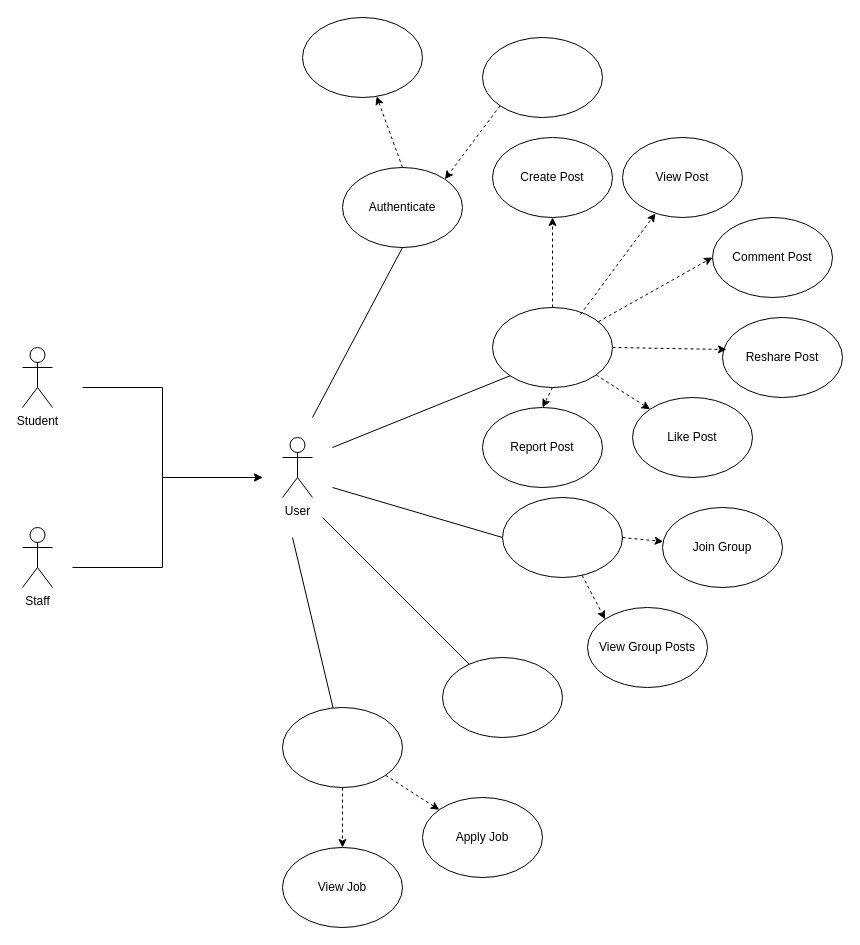
This 860x945 diagram has some shape labels left out. Here are the shapes that lost their labels. From the top down, the box of each, then its label:
(302, 16, 422, 98): Google Sign In
(482, 36, 602, 118): Invalid Username and Password
(492, 306, 612, 388): Interact with Posts
(502, 496, 622, 578): Groups
(442, 656, 562, 738): Message Others
(282, 706, 402, 788): Jobs
